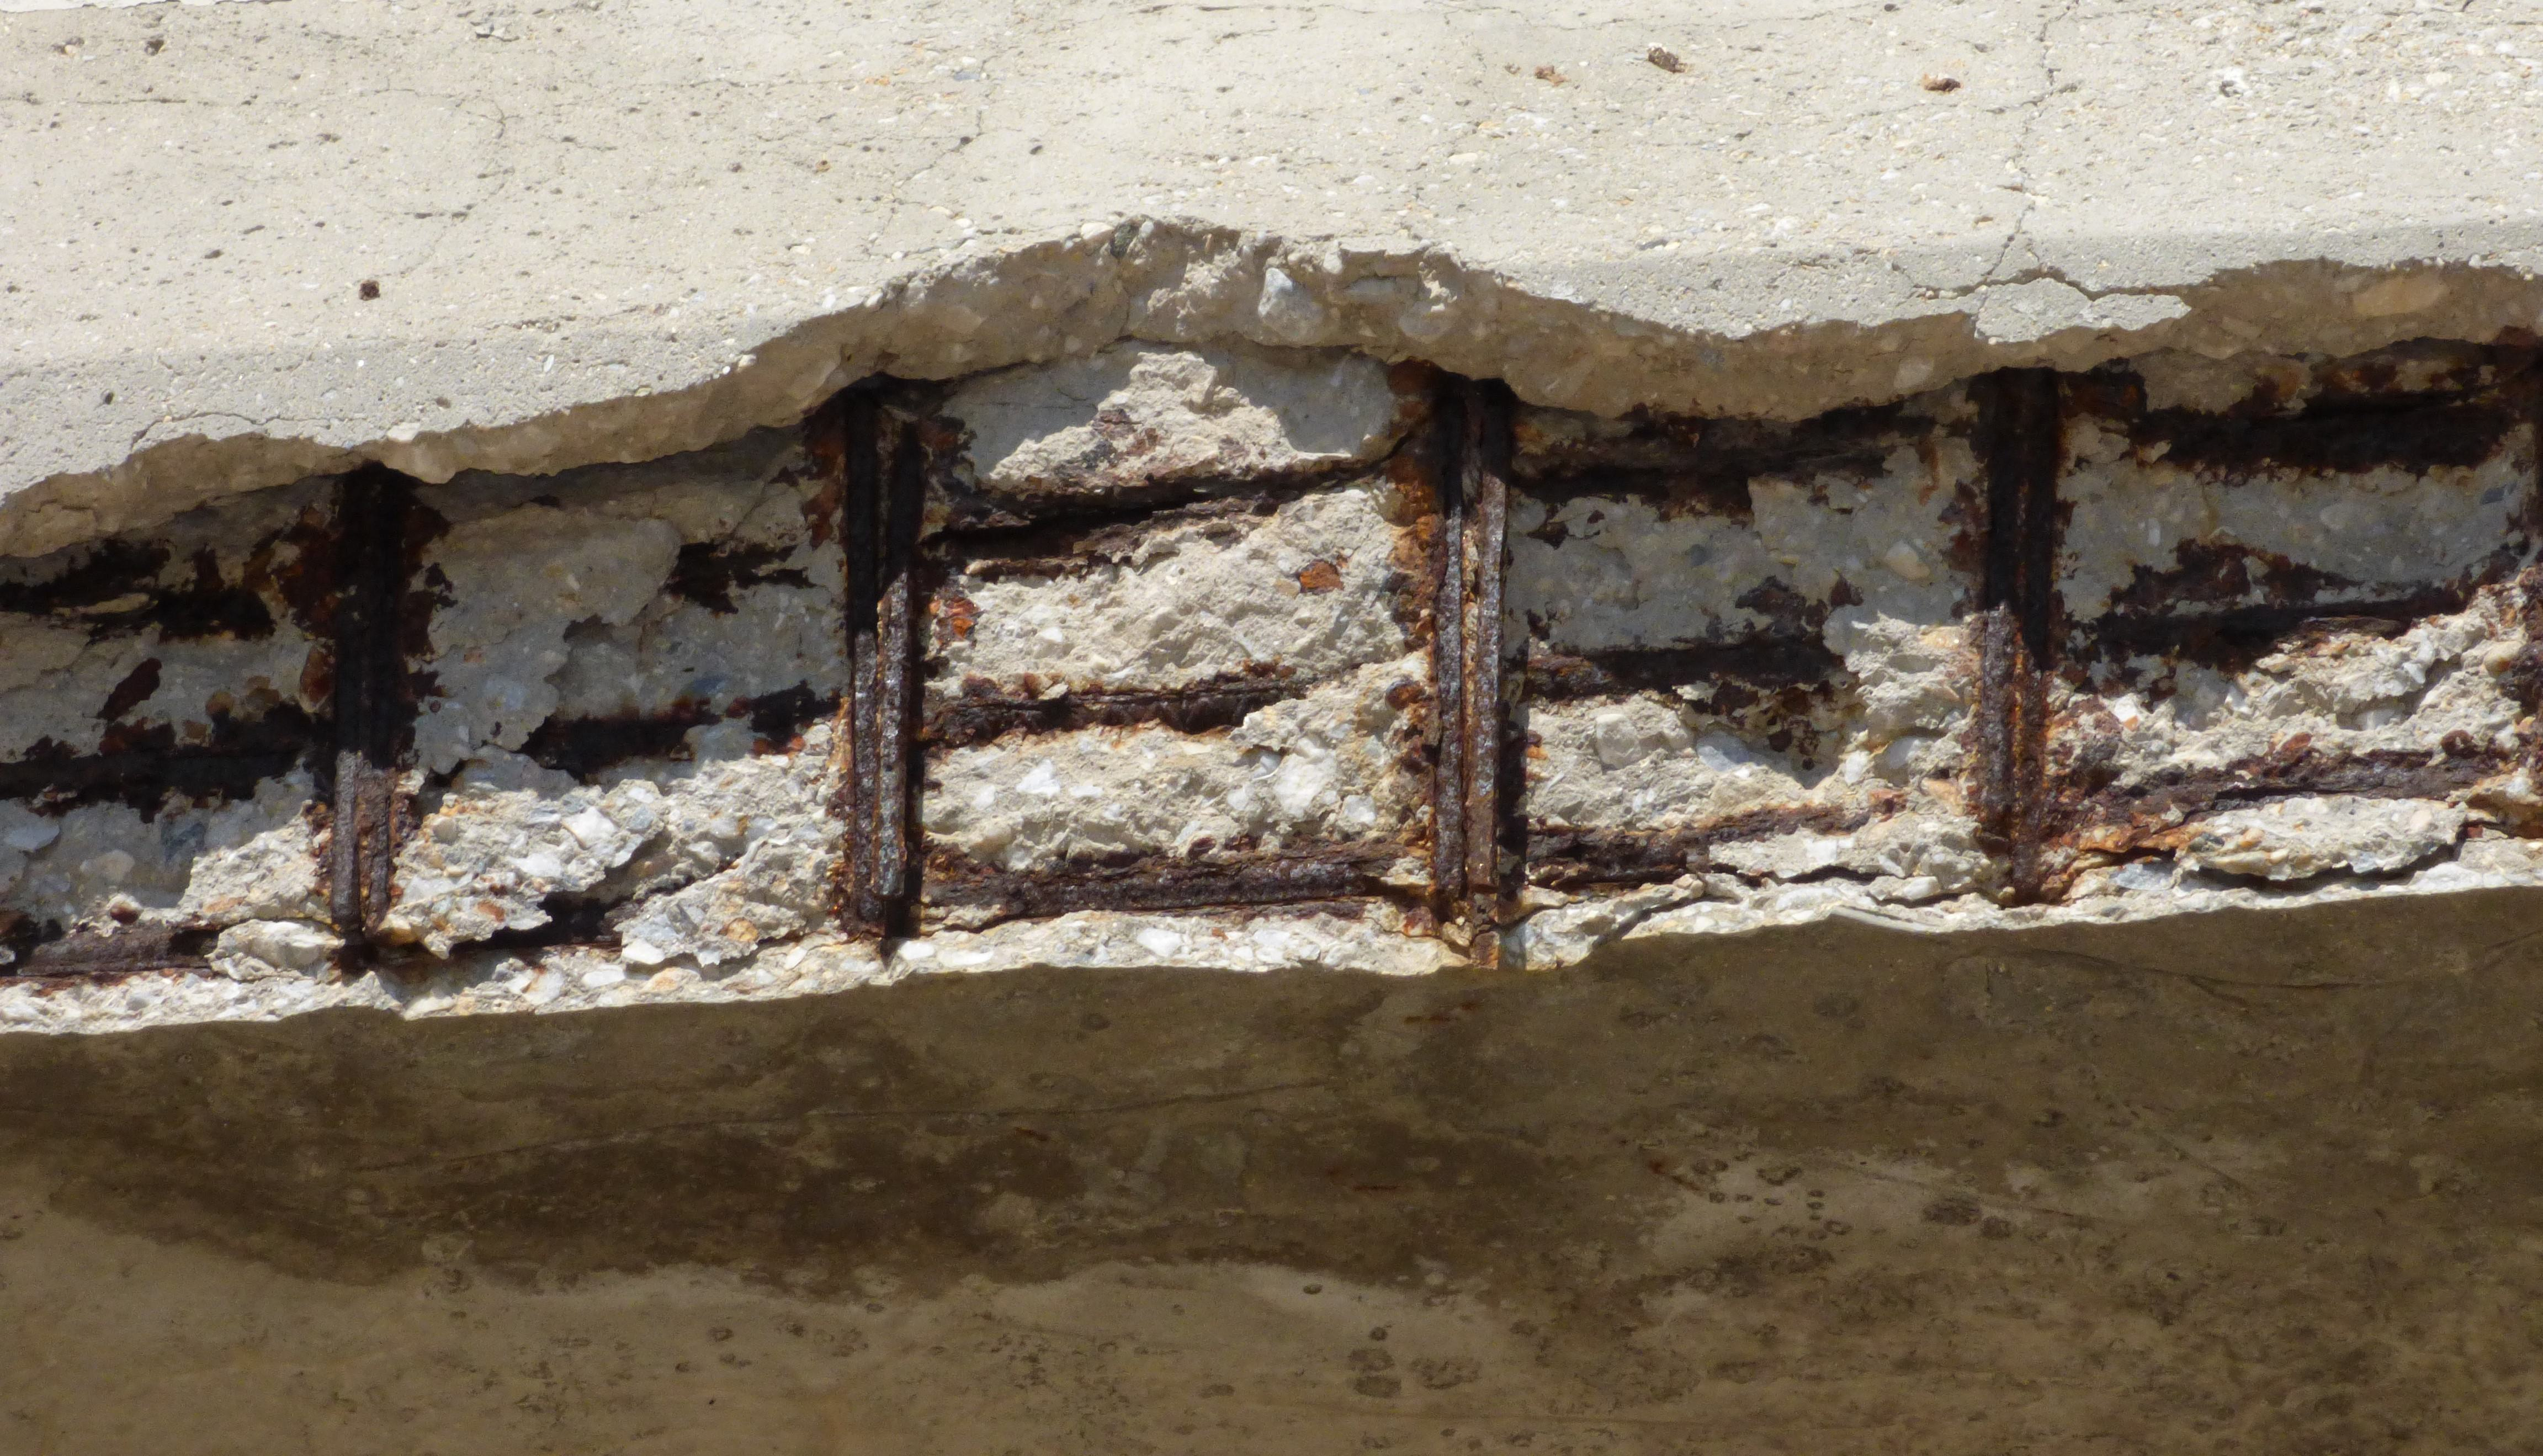Corrosion: (2061, 368, 2543, 473), (1511, 402, 1937, 519), (924, 459, 1378, 560), (0, 686, 311, 826), (0, 538, 278, 642), (341, 896, 624, 981), (510, 697, 723, 786), (2056, 627, 2298, 697), (2106, 539, 2367, 602), (402, 505, 459, 759), (658, 539, 817, 616), (723, 679, 840, 752), (1734, 573, 1865, 634), (272, 517, 337, 637), (91, 656, 162, 723), (1294, 560, 1345, 602)
Exposed reinforcement: (2106, 751, 2499, 826), (950, 862, 1368, 932), (872, 416, 927, 896), (2012, 368, 2061, 894), (1465, 381, 1511, 892), (1977, 368, 2023, 847), (847, 388, 884, 922), (1525, 637, 1825, 702), (1521, 808, 1850, 866), (2094, 590, 2463, 641), (363, 475, 402, 932), (330, 477, 367, 925), (959, 686, 1284, 735), (1434, 372, 1464, 903), (0, 927, 222, 976)
Spalling: (0, 208, 2543, 1035)
